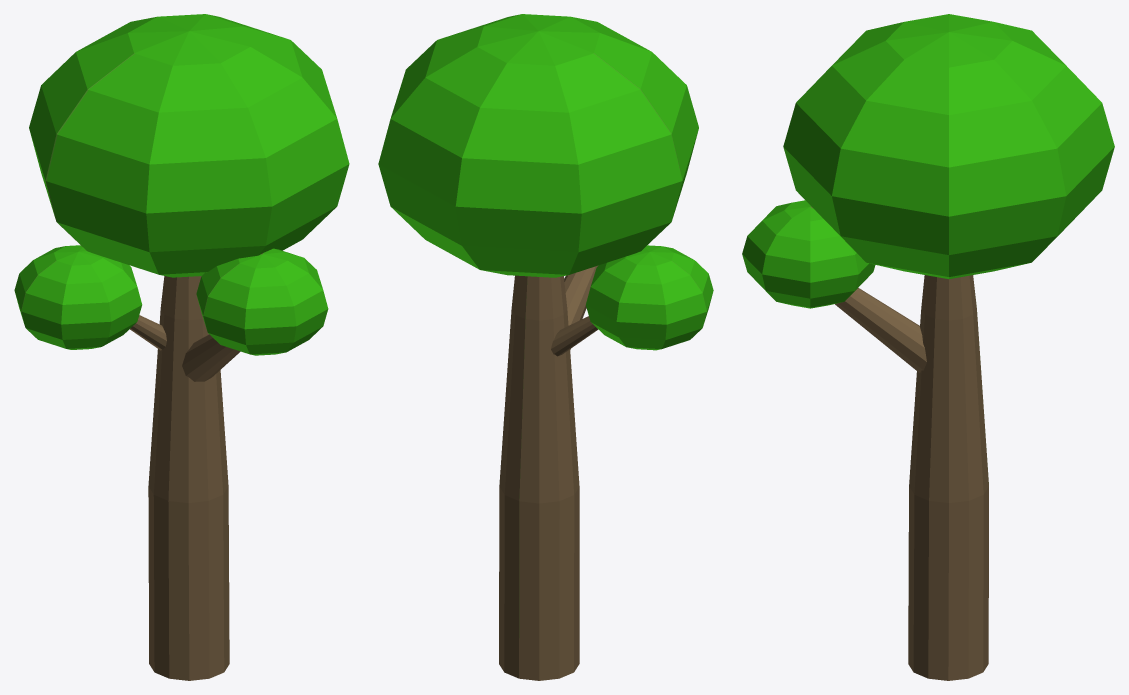
Rendered from Upright_Tree.fbx.
3 renders of one model, left to right at view 1: azimuth 30°, elevation 25°; view 2: azimuth 150°, elevation 25°; view 3: azimuth 270°, elevation 25°, orthographic.
Visible parts, largest first — view 1: Cylinder; view 2: Cylinder; view 3: Cylinder.
Part boxes in pixels (x1,y1,x2,y2): Cylinder: [14, 14, 349, 680]; Cylinder: [378, 14, 713, 680]; Cylinder: [742, 14, 1114, 680].
Bounding box in the file's own units: 551 × 1068 × 571.
